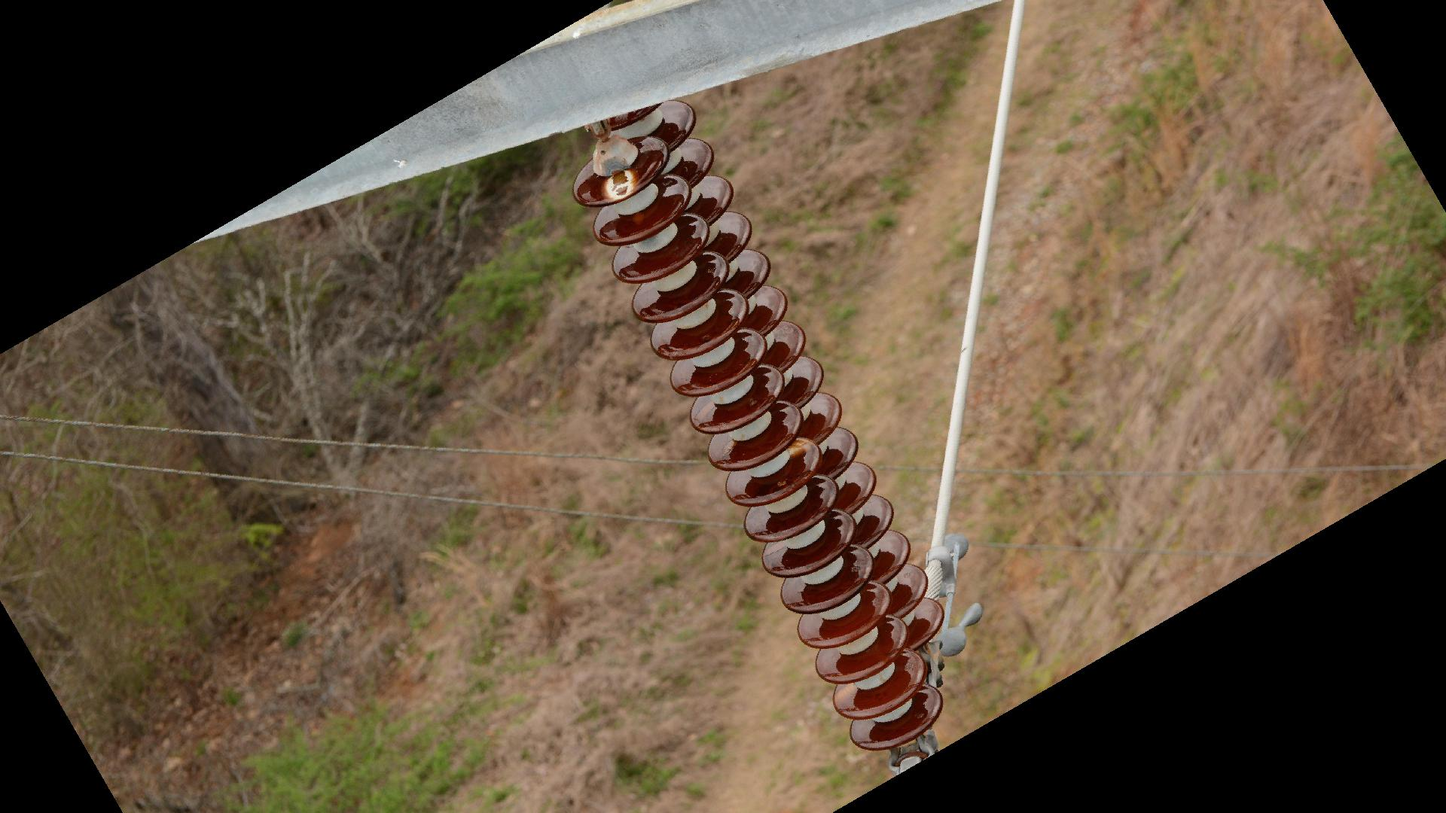insulator: (569, 96, 957, 763)
insulator_flashover: (601, 168, 640, 202), (832, 681, 859, 709), (784, 433, 813, 458)
